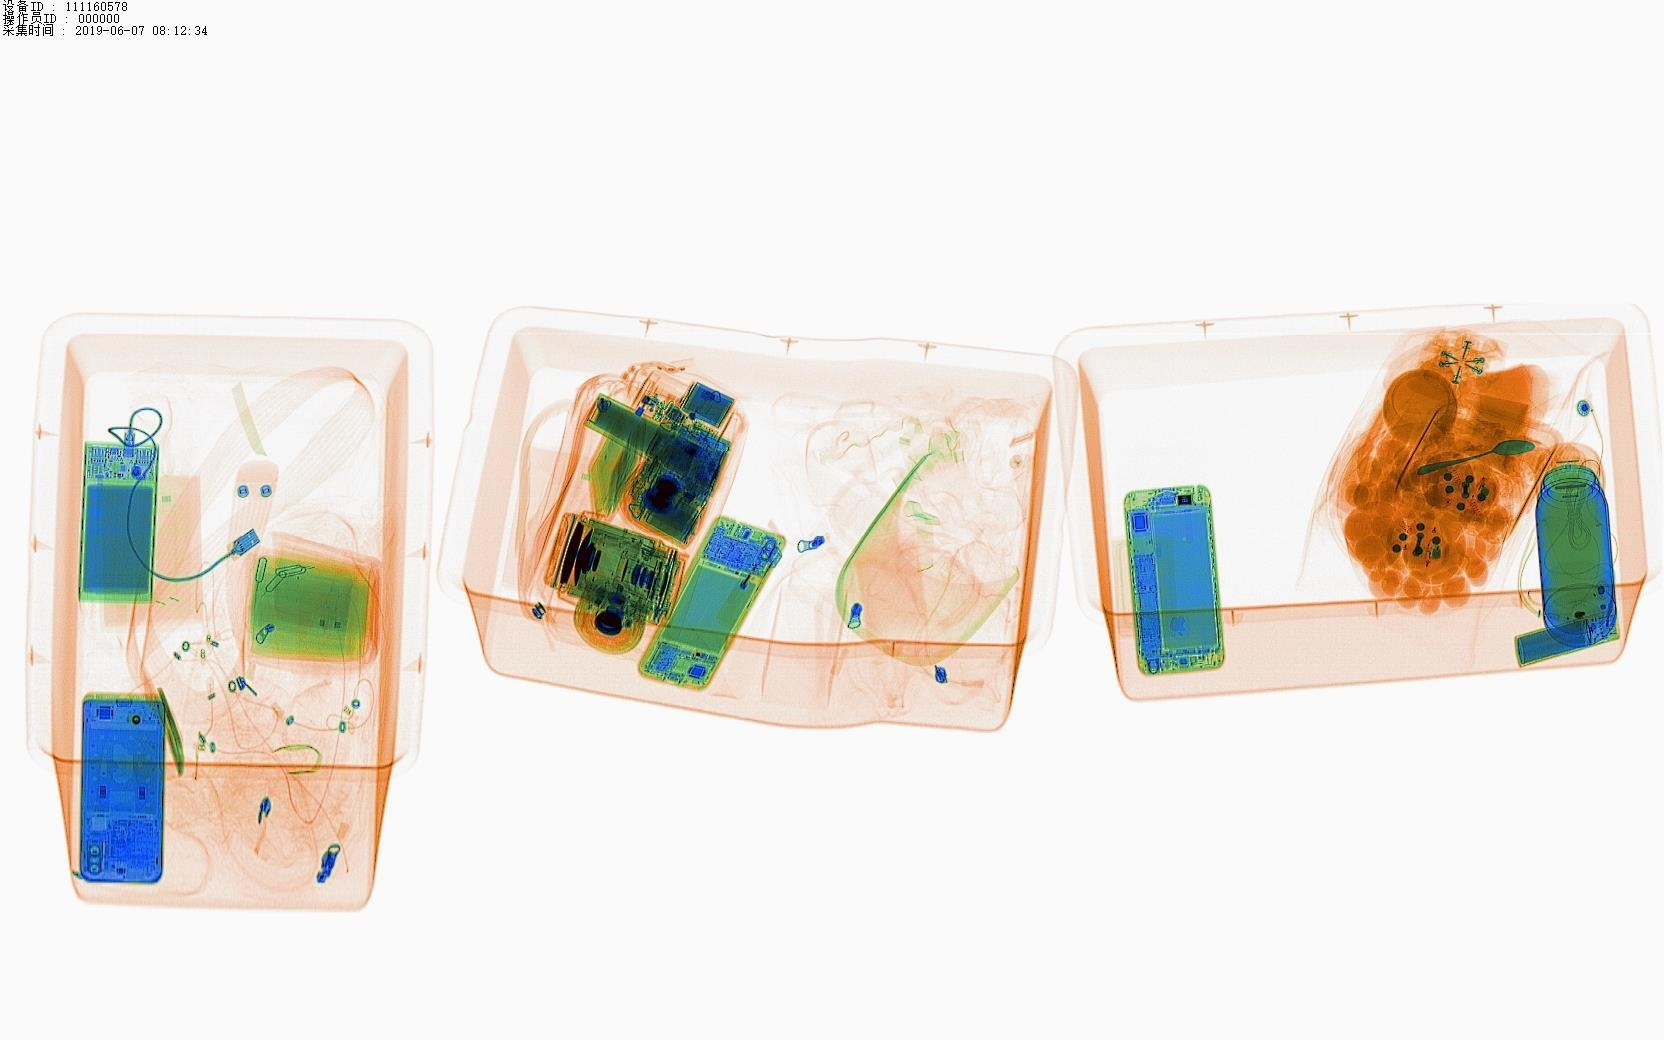NonmetallicFire: (714, 539, 801, 641)
